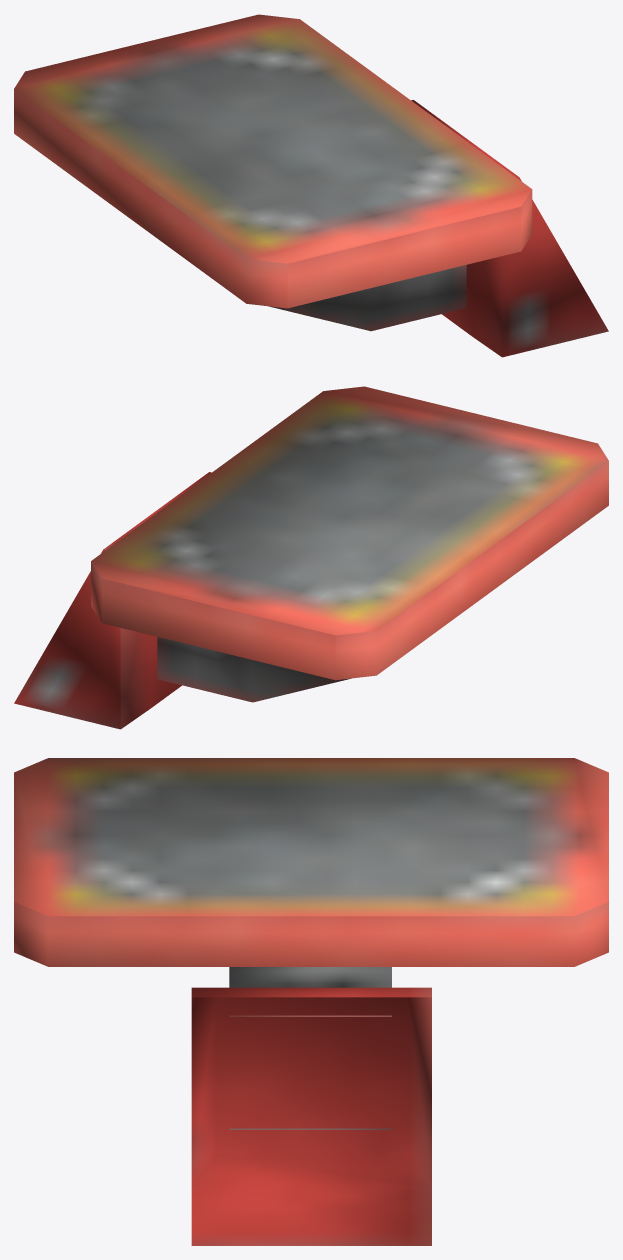
File: Platform.FBX
3 renders of one model, top to bottom at view 1: azimuth 30°, elevation 25°; view 2: azimuth 150°, elevation 25°; view 3: azimuth 270°, elevation 25°, orthographic. The views are drawn at different scales.
Parts seen in each view (by area): view 1: Platform; view 2: Platform; view 3: Platform.
Part boxes in pixels (x1,y1,x2,y2): Platform: [14, 14, 608, 357]; Platform: [14, 386, 608, 729]; Platform: [14, 758, 608, 1245].
Size of the model in its own units: 32.63 by 16.3 by 34.84.
1 material, 1 textured.
